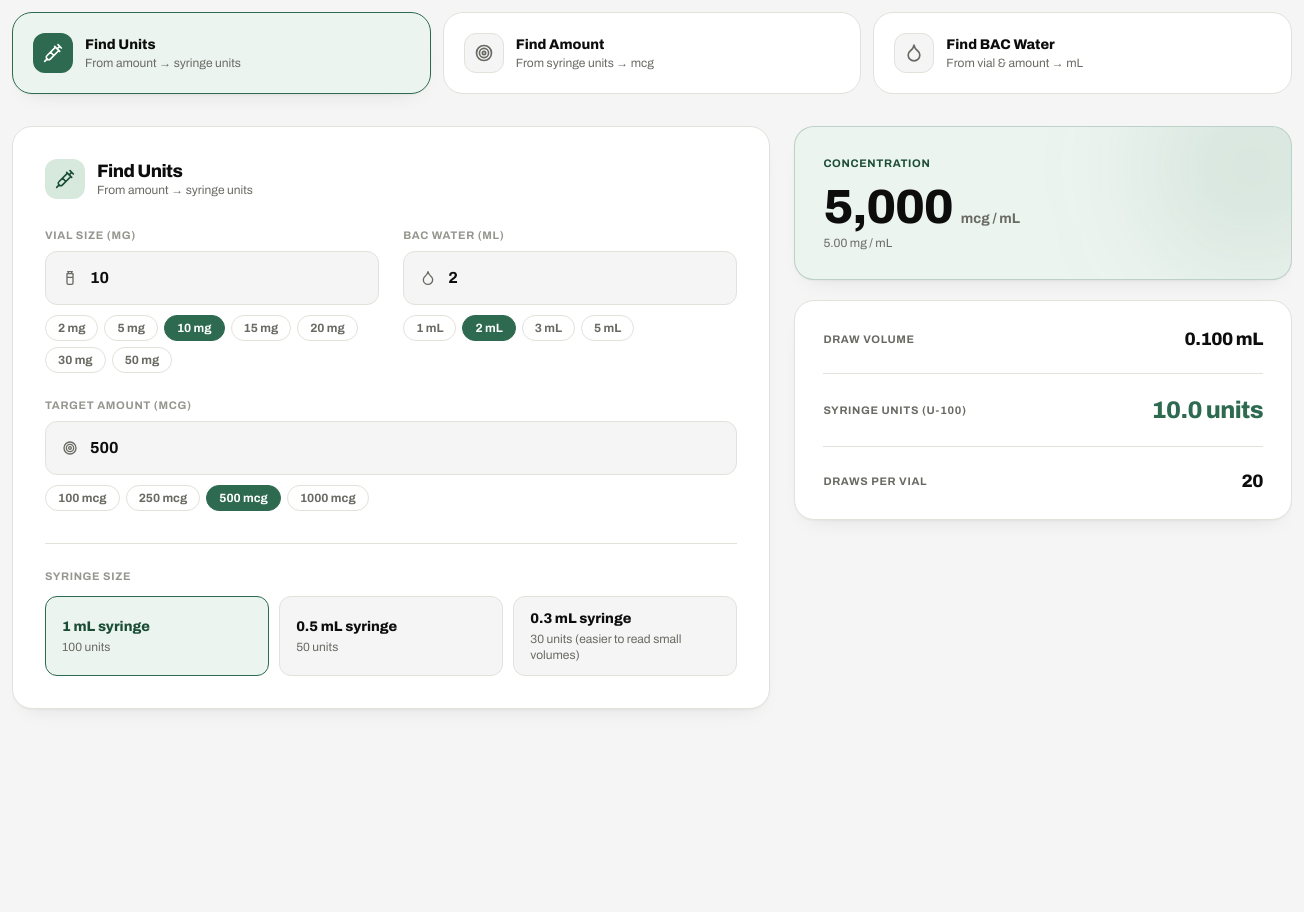
Test: ReconstitutionCalculator › warns when the draw is larger than the chosen syringe
Replace the text in the number field labelled "Target amount (mcg)" with "2000": (405, 448) [90,436,720,460]
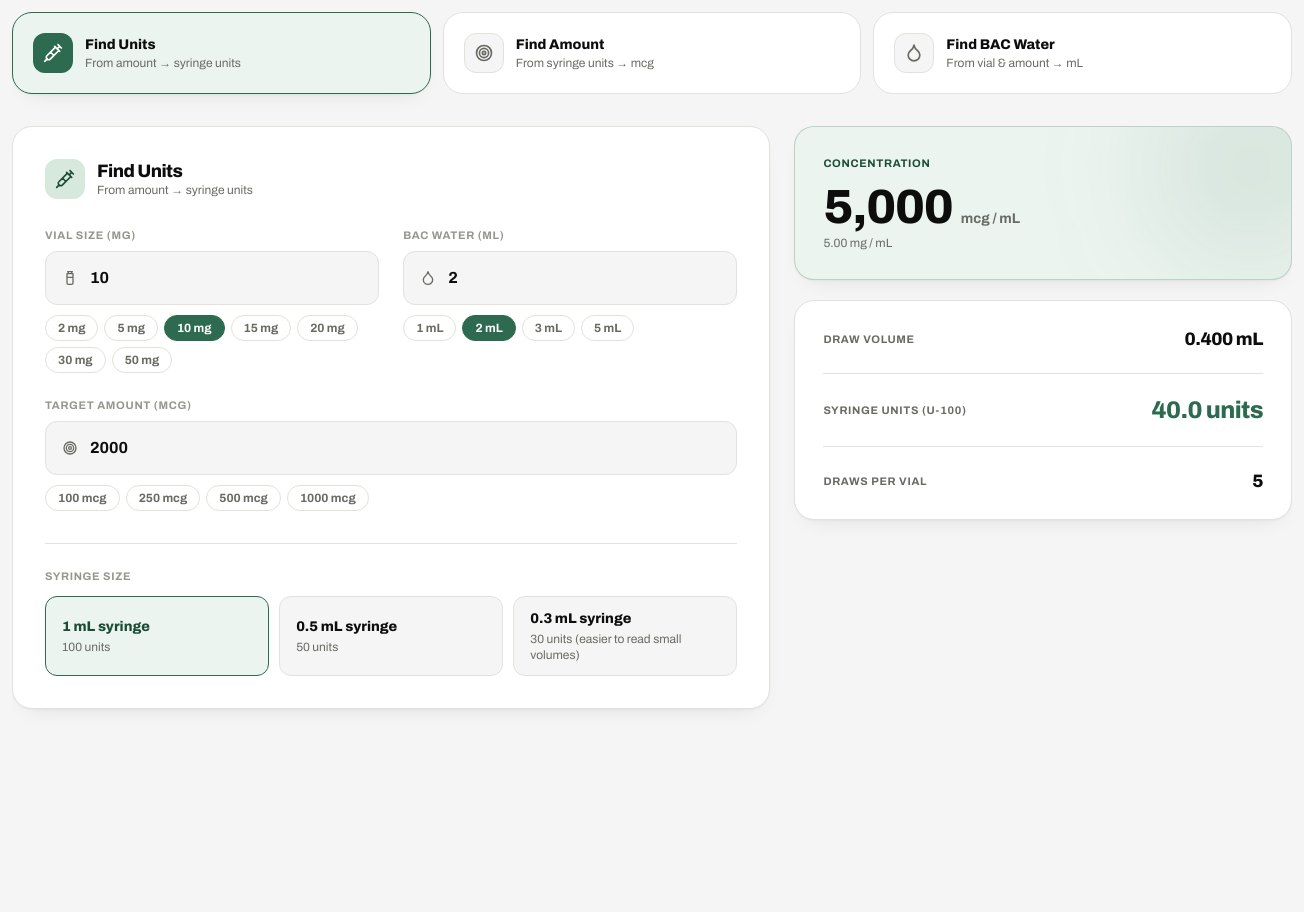
Click the button "0.3 mL syringe 30 units (easier to read small volumes)": (625, 636) [513,596,737,676]
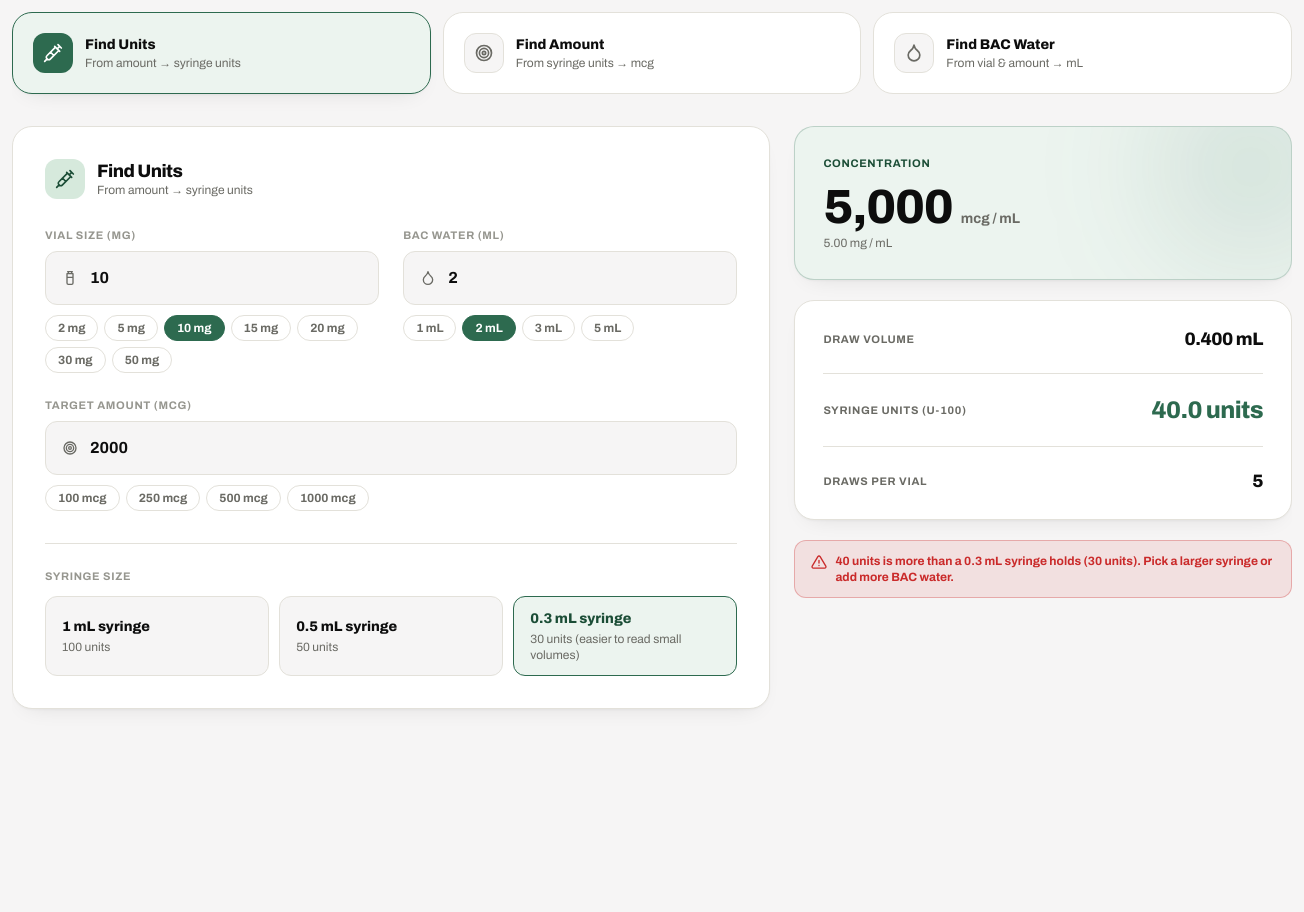
Check: the text "40 units is more than a 0.3 mL syringe holds (30 units)" is shown, box [835,554,1143,568]
